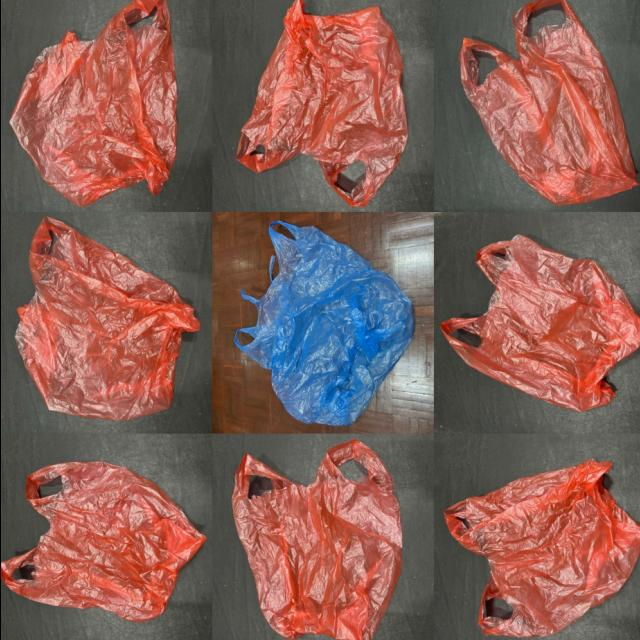plastik: (14, 218, 198, 420), (458, 0, 636, 205), (234, 221, 412, 425), (439, 234, 640, 411), (235, 0, 406, 207), (443, 459, 640, 637), (9, 0, 176, 207), (231, 441, 401, 640), (0, 462, 205, 621)
